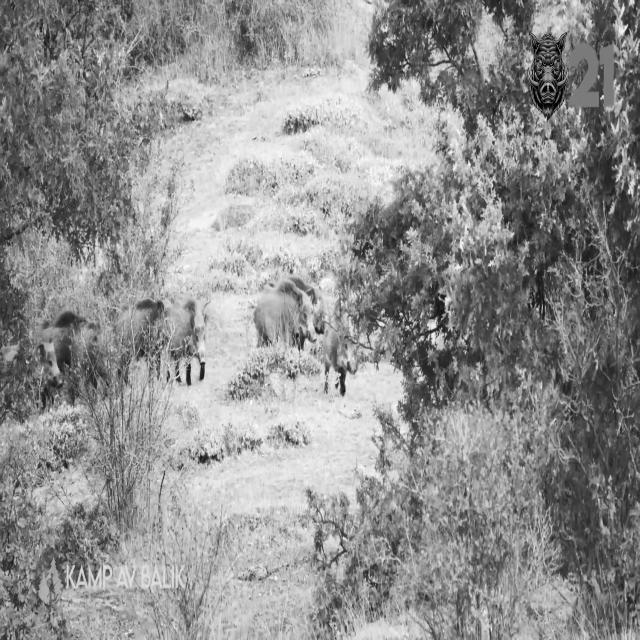boar: (110, 297, 205, 385), (35, 311, 108, 396), (254, 275, 322, 350), (323, 319, 352, 394)
